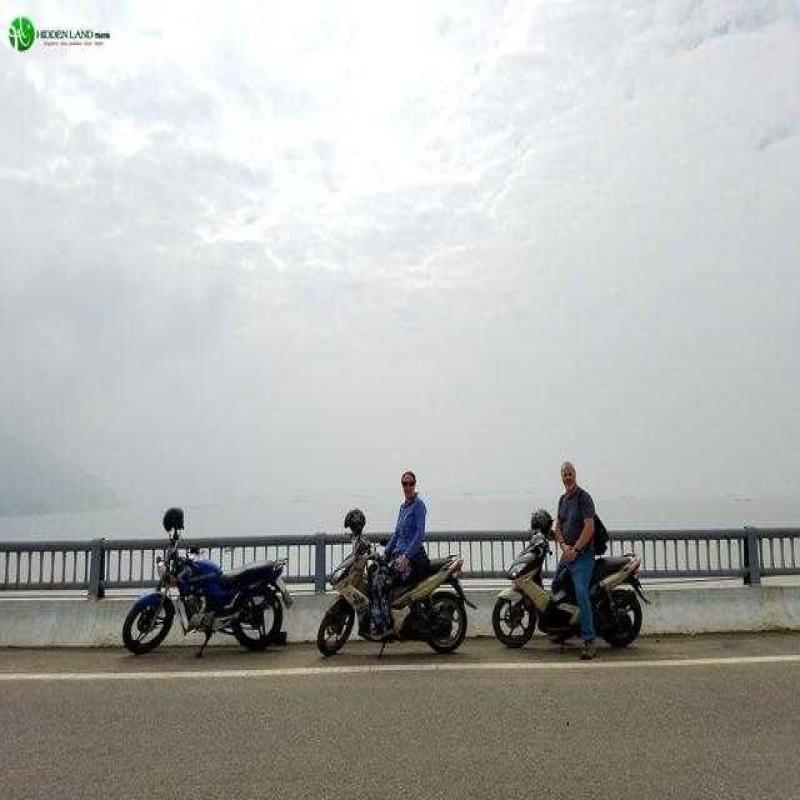bike: (136, 513, 300, 667), (308, 509, 470, 658), (488, 502, 652, 647)
